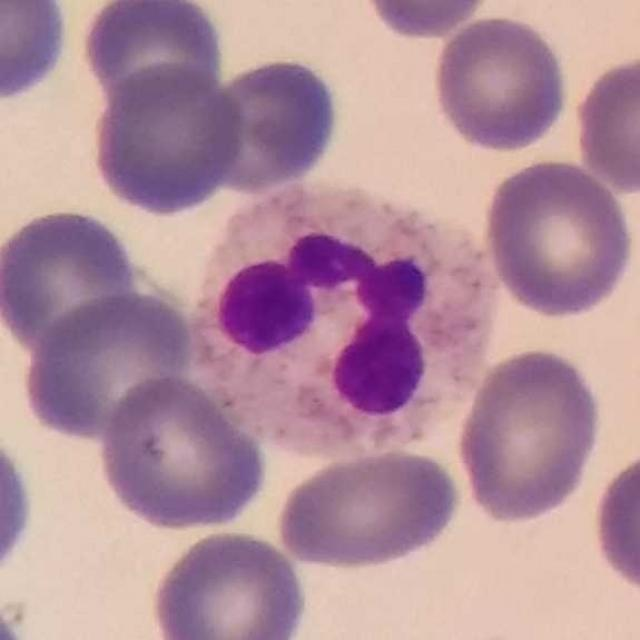Neutrophil: (183, 178, 507, 473)
RBC: (452, 342, 608, 528), (94, 372, 272, 534), (18, 287, 196, 443), (478, 154, 636, 320), (272, 444, 468, 573), (87, 61, 248, 218), (0, 203, 141, 357), (428, 12, 572, 155), (199, 52, 343, 194), (146, 526, 312, 640), (77, 0, 229, 112), (570, 50, 640, 196), (586, 439, 640, 604), (0, 0, 73, 105), (0, 414, 39, 589), (358, 0, 497, 41)
